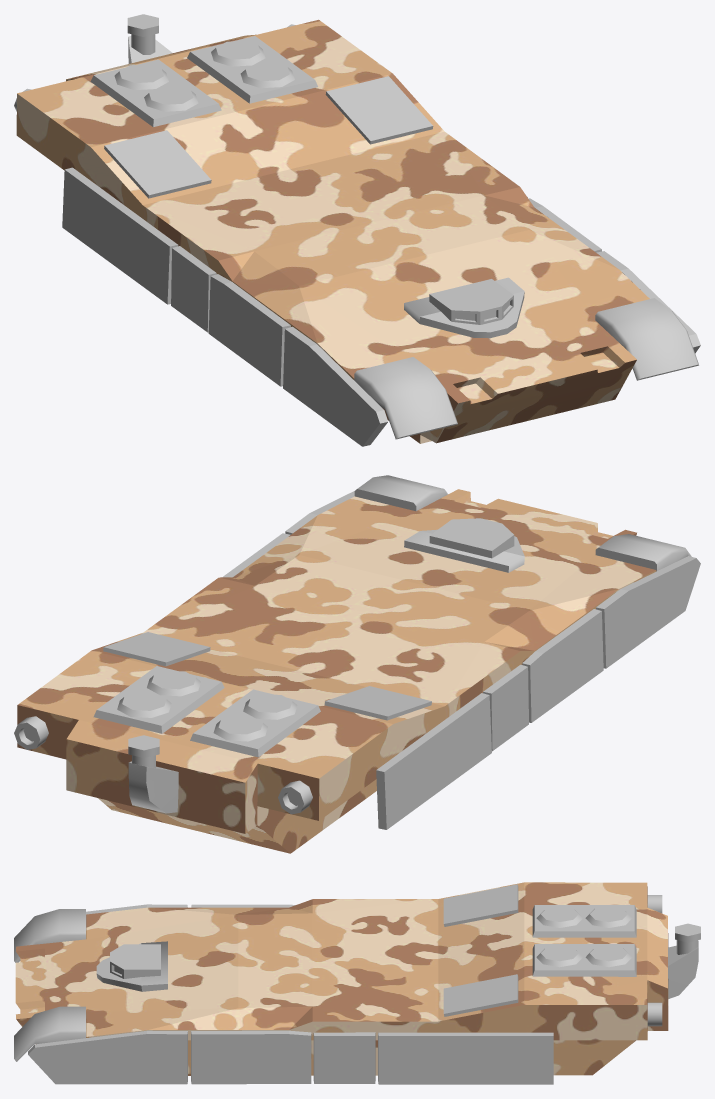
File: Tank_006.fbx
3 renders of one model, top to bottom at view 1: azimuth 30°, elevation 25°; view 2: azimuth 150°, elevation 25°; view 3: azimuth 270°, elevation 25°, orthographic. The views are drawn at different scales.
Visible parts, largest first — view 1: Tank_006; view 2: Tank_006; view 3: Tank_006.
Part boxes in pixels (left/top/right/bottom): Tank_006: left=14, top=14, right=700, bottom=446; Tank_006: left=14, top=475, right=700, bottom=853; Tank_006: left=14, top=882, right=700, bottom=1084.
Size of the model in its own units: 452 by 997 by 176.
